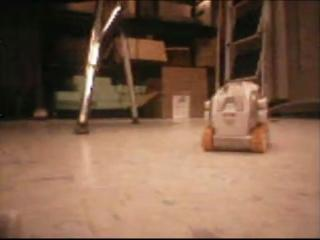cozmo: (200, 78, 270, 153)
